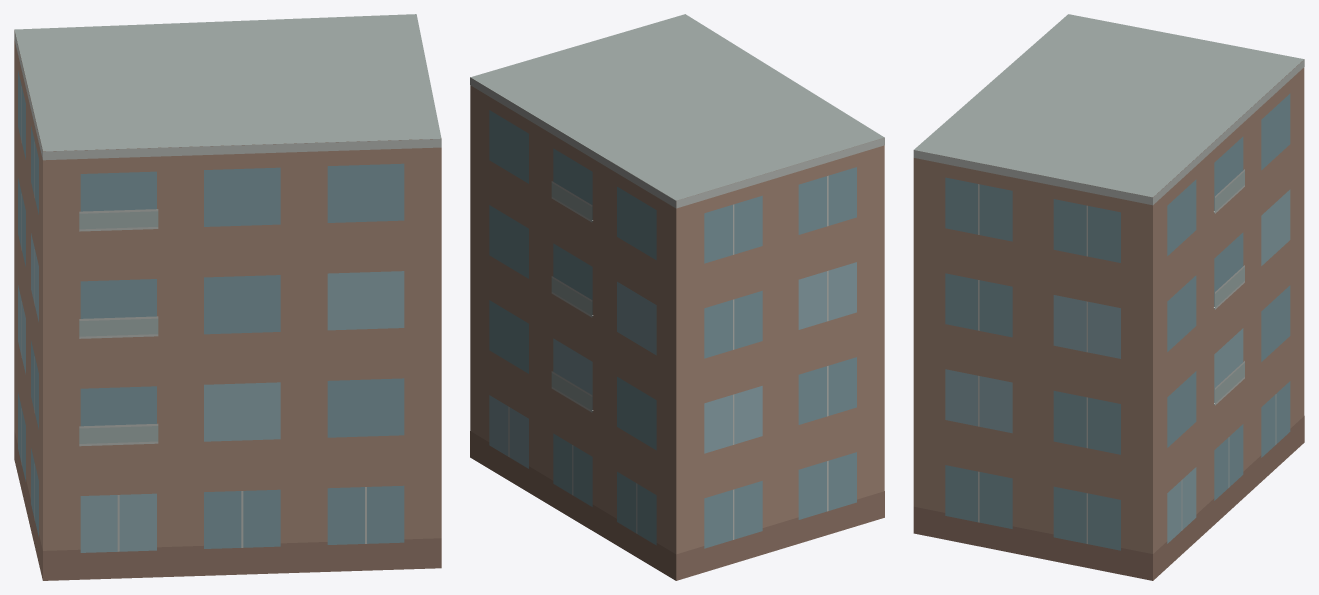
Rendered from survey-upis-32626320.glb.
The picture shows the model from 3 angles, left to right: view 1: azimuth 30°, elevation 25°; view 2: azimuth 150°, elevation 25°; view 3: azimuth 270°, elevation 25°; orthographic projection. The views are drawn at different scales.
Visible parts, largest first — view 1: survey-upis-32626320.tmp; view 2: survey-upis-32626320.tmp; view 3: survey-upis-32626320.tmp.
Boxes of the visible parts, box(x1,y1,x2,y2) form: survey-upis-32626320.tmp: box(14, 14, 441, 580); survey-upis-32626320.tmp: box(470, 14, 884, 580); survey-upis-32626320.tmp: box(913, 14, 1304, 580).
Bounding box in the file's own units: 12.22 × 11.9 × 11.
